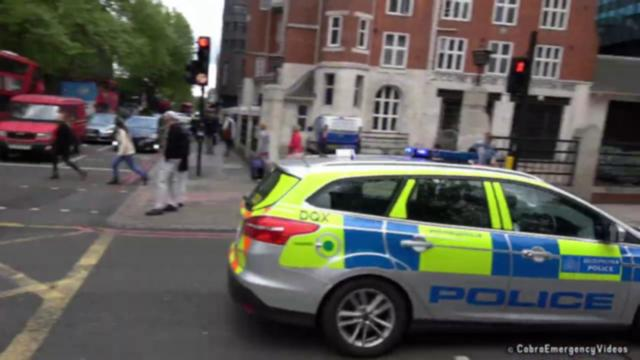police: (233, 146, 640, 342)
